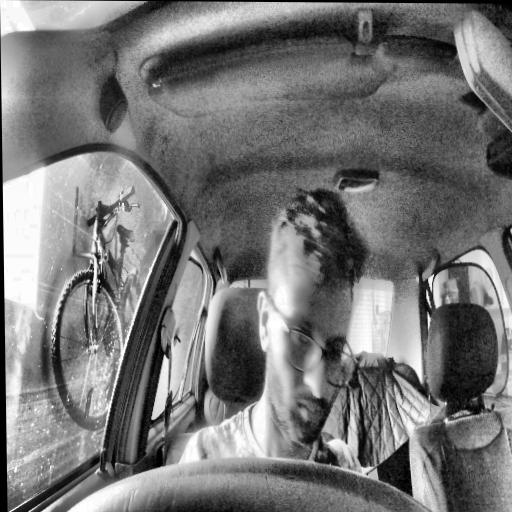awake: (254, 188, 371, 455)
